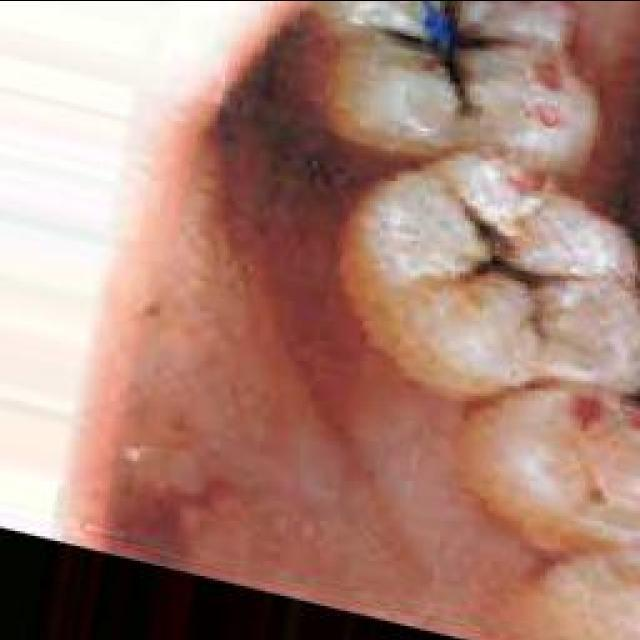caries: (450, 200, 560, 315), (377, 0, 505, 98)
